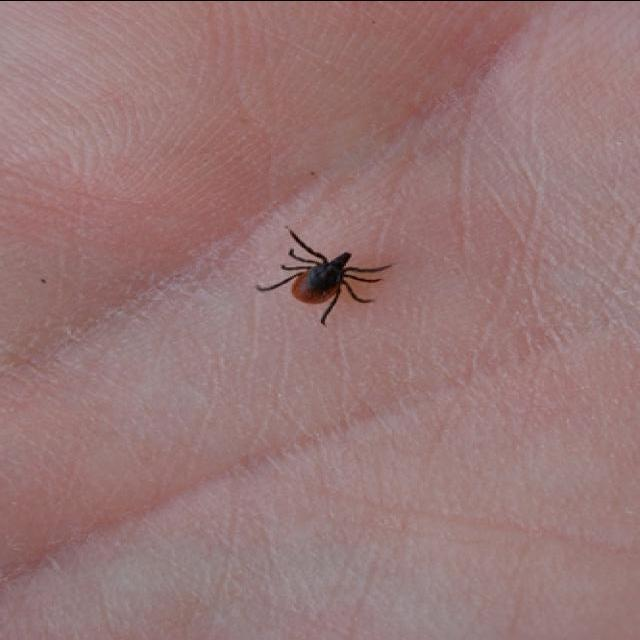Ixodes Ricinus-F: (258, 230, 392, 324)
